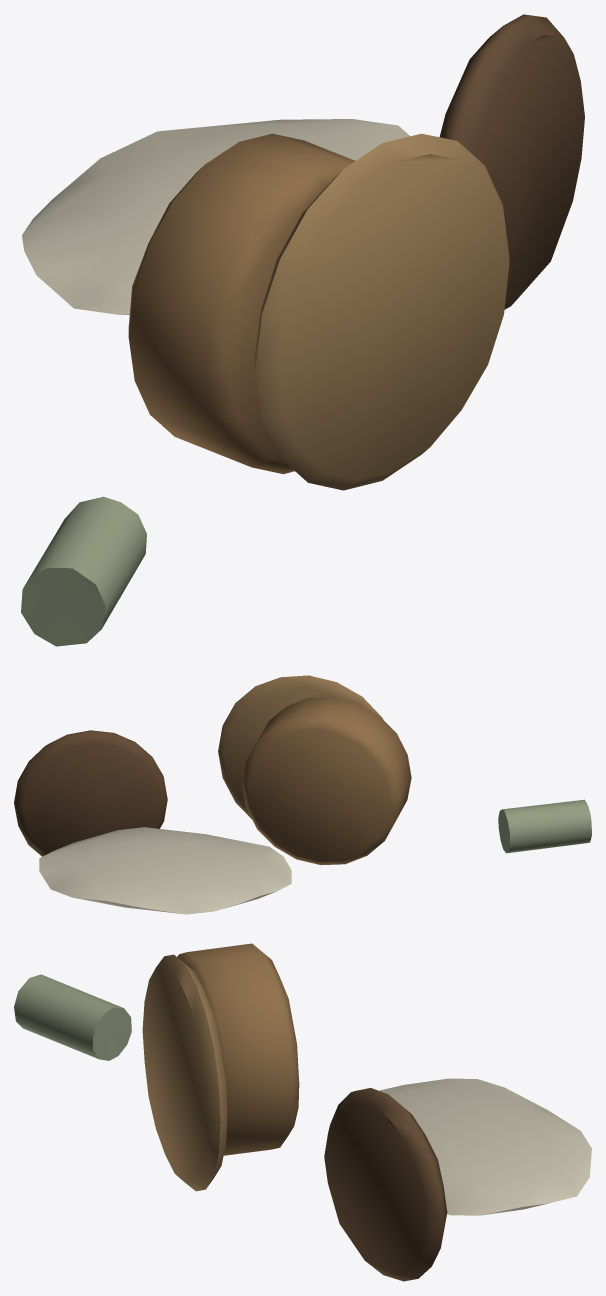
Rendered from watch_stool_b_lod1.glb.
The picture shows the model from 3 angles, top to bottom: view 1: azimuth 30°, elevation 25°; view 2: azimuth 150°, elevation 25°; view 3: azimuth 270°, elevation 25°; orthographic projection. The views are drawn at different scales.
Visible parts, largest first — view 1: Surface.001; view 2: Surface.001; view 3: Surface.001.
Part boxes in pixels (x1=…): Surface.001: x1=21, y1=14, x2=584, y2=646; Surface.001: x1=14, y1=675, x2=591, y2=914; Surface.001: x1=14, y1=943, x2=591, y2=1281.
Bounding box in the file's own units: 2.44 × 0.9407 × 2.22.
